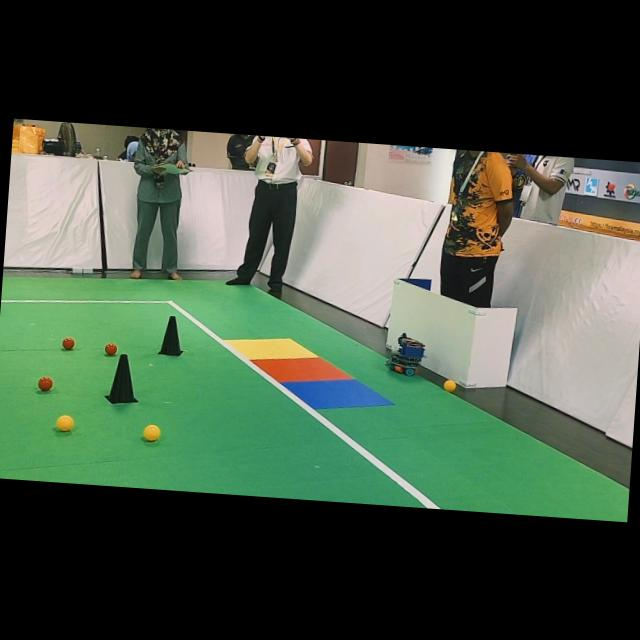ball: (143, 424, 161, 441), (56, 415, 74, 431), (37, 376, 53, 391), (104, 342, 118, 355), (61, 336, 74, 349), (443, 379, 456, 392)
goal: (283, 379, 393, 409), (252, 358, 352, 382), (225, 338, 318, 360)
